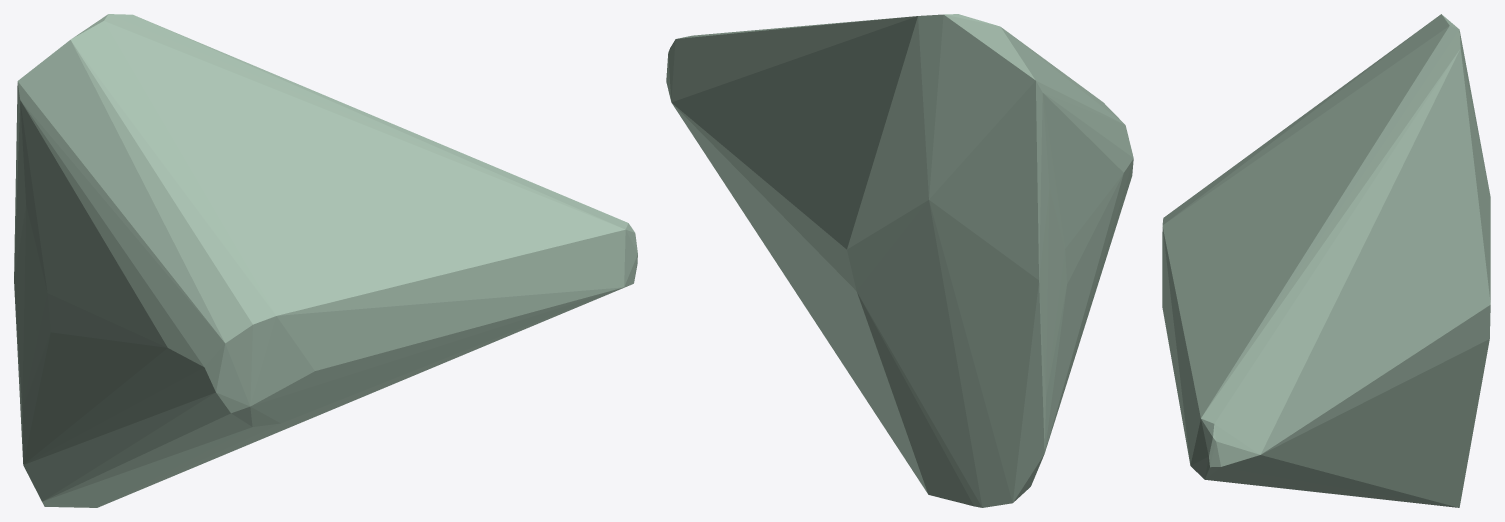
The model's file is fixture_faucet_singleLever_a01.glb.
The picture shows the model from 3 angles, left to right: view 1: azimuth 30°, elevation 25°; view 2: azimuth 150°, elevation 25°; view 3: azimuth 270°, elevation 25°; orthographic projection. The views are drawn at different scales.
Visible parts, largest first — view 1: geometry_0; view 2: geometry_0; view 3: geometry_0.
Boxes of the visible parts, box(x1,y1,x2,y2) form: geometry_0: box(14, 14, 637, 507); geometry_0: box(666, 14, 1133, 507); geometry_0: box(1162, 14, 1490, 507).
Bounding box in the file's own units: 0.4798 × 0.4477 × 0.2828.
